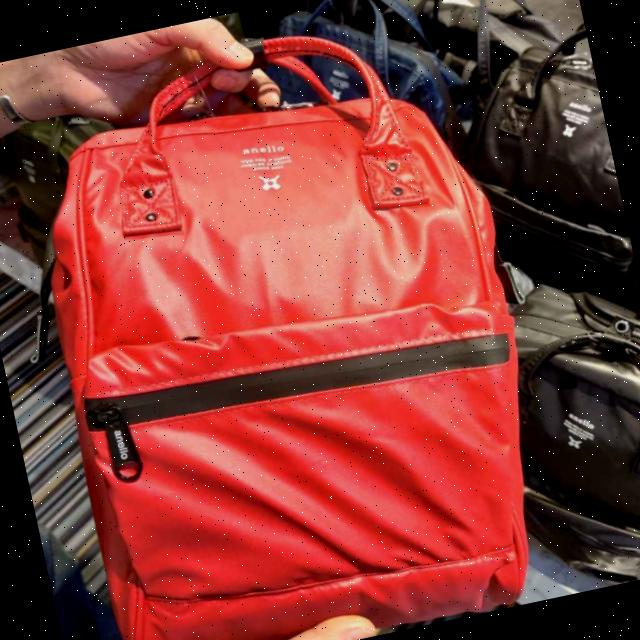Handbag: (2, 0, 565, 640)
